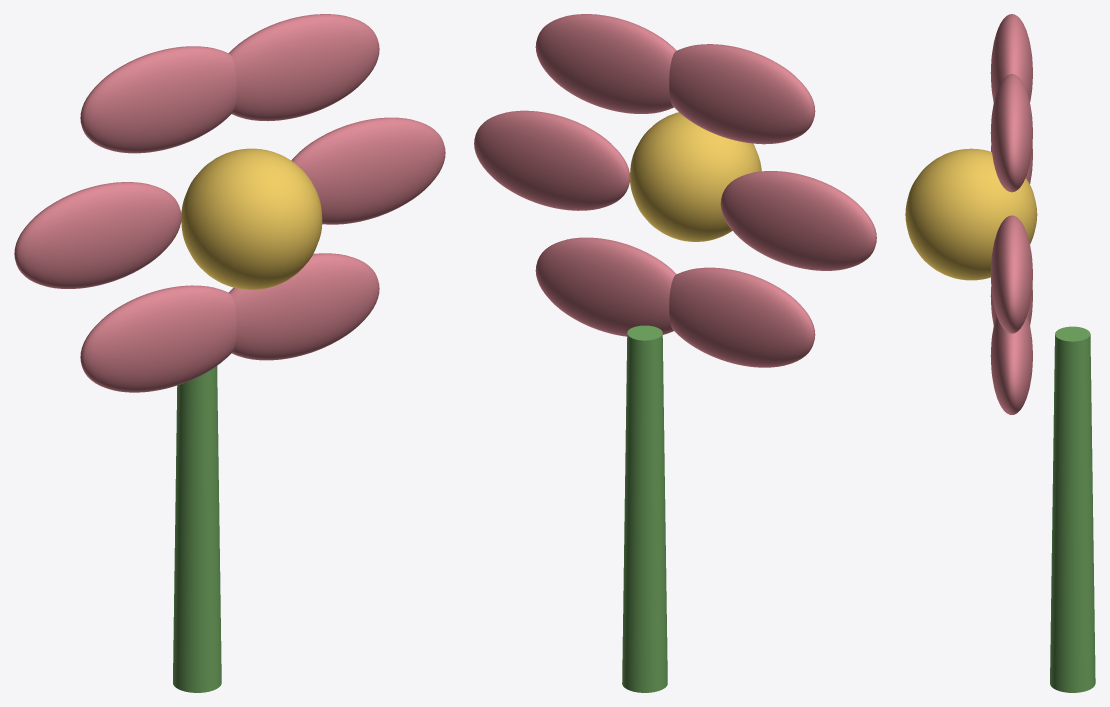
Rendered from bio-p1-flower.glb.
The picture shows the model from 3 angles, left to right: view 1: azimuth 30°, elevation 25°; view 2: azimuth 150°, elevation 25°; view 3: azimuth 270°, elevation 25°; orthographic projection. The views are drawn at different scales.
Parts seen in each view (by area): view 1: pollen-center, flower-stem, petal-attractor-3, petal-attractor-2, petal-attractor-4, petal-attractor-1, petal-attractor-0, petal-attractor-5; view 2: flower-stem, petal-attractor-0, petal-attractor-3, petal-attractor-4, petal-attractor-2, pollen-center, petal-attractor-1, petal-attractor-5; view 3: flower-stem, pollen-center, petal-attractor-0, petal-attractor-1, petal-attractor-5, petal-attractor-2.
Boxes of the visible parts, x1=… form: pollen-center: x1=181, y1=148, x2=322, y2=289; flower-stem: x1=173, y1=366, x2=221, y2=692; petal-attractor-3: x1=14, y1=182, x2=181, y2=288; petal-attractor-2: x1=80, y1=46, x2=236, y2=153; petal-attractor-4: x1=80, y1=285, x2=236, y2=392; petal-attractor-1: x1=229, y1=14, x2=379, y2=121; petal-attractor-0: x1=291, y1=117, x2=445, y2=224; petal-attractor-5: x1=229, y1=253, x2=379, y2=360; flower-stem: x1=622, y1=325, x2=667, y2=692; petal-attractor-0: x1=474, y1=110, x2=629, y2=210; petal-attractor-3: x1=720, y1=171, x2=876, y2=270; petal-attractor-4: x1=669, y1=267, x2=815, y2=367; petal-attractor-2: x1=669, y1=44, x2=815, y2=144; pollen-center: x1=630, y1=112, x2=761, y2=241; petal-attractor-1: x1=535, y1=14, x2=676, y2=113; petal-attractor-5: x1=535, y1=237, x2=676, y2=336; flower-stem: x1=1050, y1=326, x2=1095, y2=692; pollen-center: x1=905, y1=148, x2=1037, y2=280; petal-attractor-0: x1=990, y1=215, x2=1032, y2=333; petal-attractor-1: x1=990, y1=74, x2=1032, y2=192; petal-attractor-5: x1=990, y1=315, x2=1032, y2=414; petal-attractor-2: x1=990, y1=14, x2=1032, y2=102.
Size of what is drawn, in the model's own units: 0.912 by 1.36 by 0.375.
